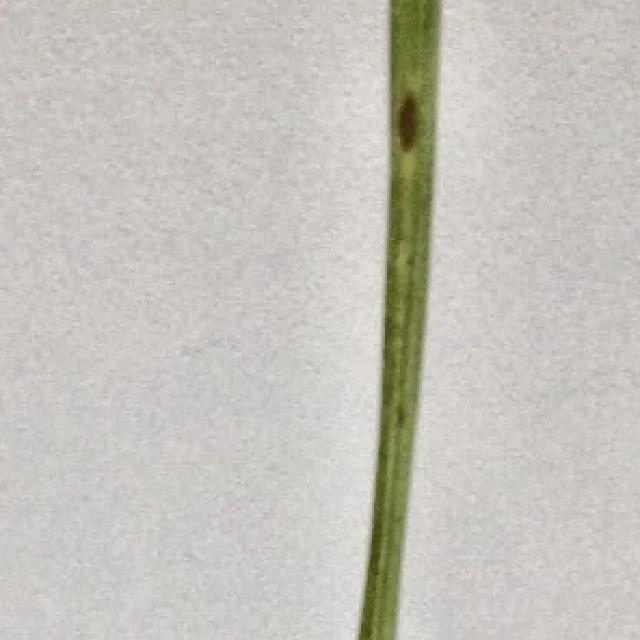Leaf_Blast: (387, 91, 424, 175)
